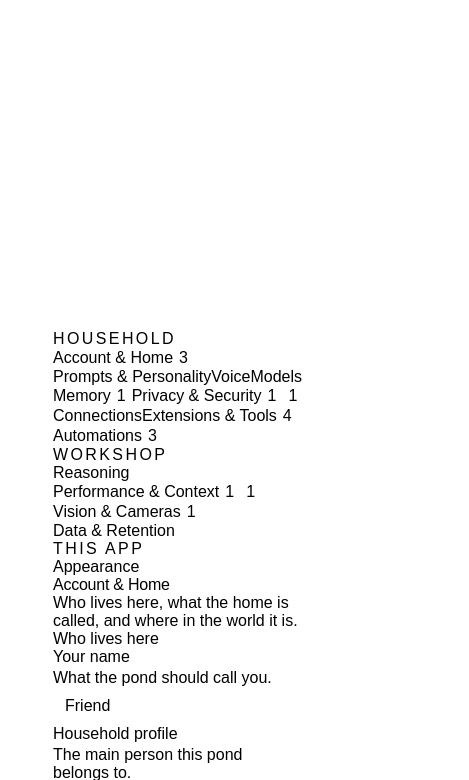
Scenario: SettingsCatalogue › shows the inert ones, marked, in developer view
The width and height of the screenshot is (469, 780).
(page scrolled)
Expected: the heading "Who lives here" is shown, [53,630,159,648]
What coordinates should you click on to do the following:
click the button "Privacy & Security 1 1"
I would click on:
 (218, 396)
Its box is [132,386,303,406].
(page scrolled)
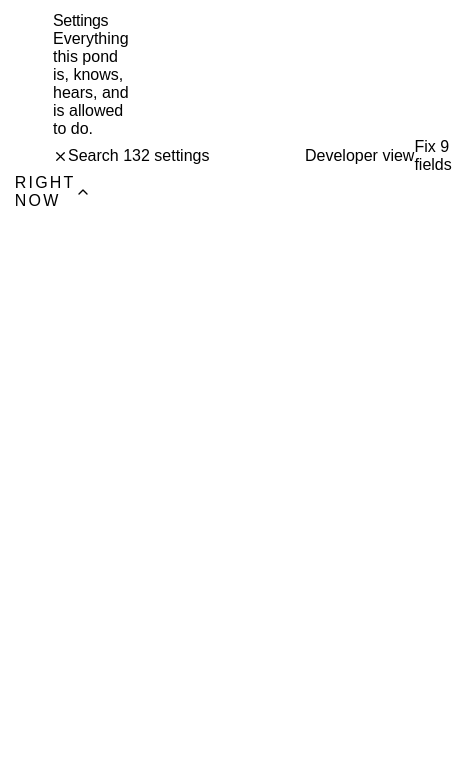
What coordinates should you click on to do the following:
click the button "Developer view"
I would click on:
 (356, 156)
Its box is [298,147,414,165].
(page scrolled)
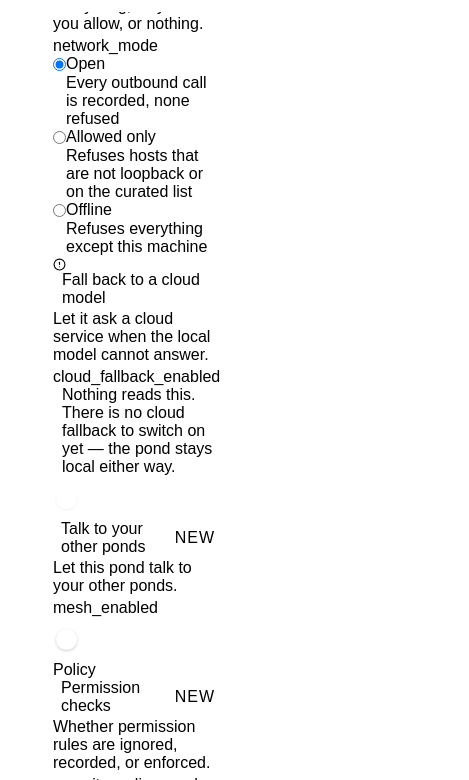
Expected: the switch named "Fall back to a cloud model" is disabled, [53,476,99,520]
Expected: the element that starts with "Fall back to a cloud model" shows "Nothing reads this", [62,386,212,476]
Expected: the element that starts with "Fall back to a cloud model" shows "cloud_fallback_enabled", [53,368,220,386]
